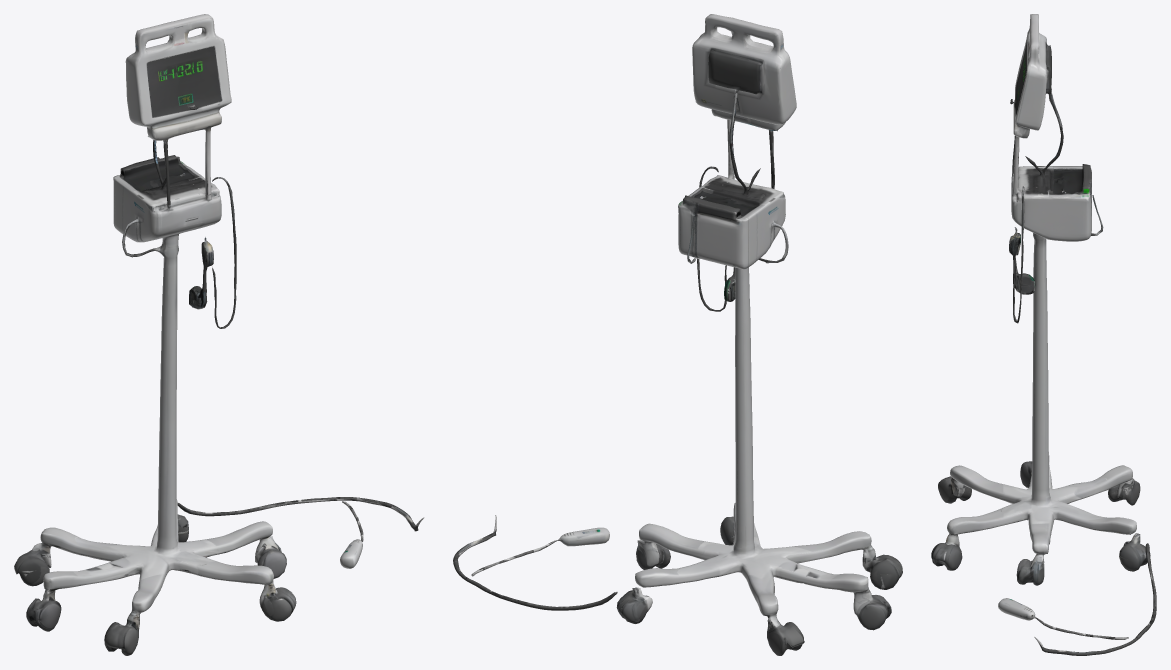
File: Medical_Monitor_on_Wh_0523164606_texture.fbx
3 renders of one model, left to right at view 1: azimuth 30°, elevation 25°; view 2: azimuth 150°, elevation 25°; view 3: azimuth 270°, elevation 25°, orthographic. The views are drawn at different scales.
Visible parts, largest first — view 1: input; view 2: input; view 3: input.
Boxes of the visible parts, <box> form: input: <box>14,14,424,655</box>; input: <box>453,14,902,655</box>; input: <box>931,14,1156,655</box>.
Bounding box in the file's own units: 147 × 200 × 79.24.
Materials: 1 (1 with a texture image).
